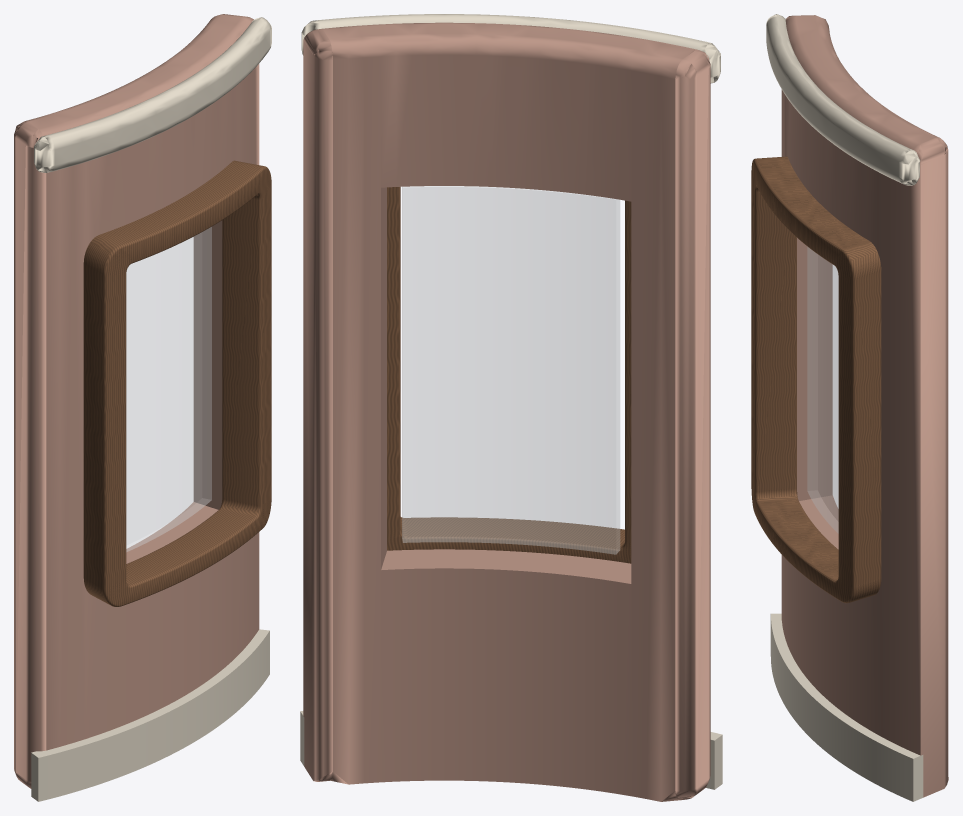
The model's file is ArcWindow_R2_A45.glb.
The picture shows the model from 3 angles, left to right: view 1: azimuth 30°, elevation 25°; view 2: azimuth 150°, elevation 25°; view 3: azimuth 270°, elevation 25°; orthographic projection. The views are drawn at different scales.
Parts seen in each view (by area): view 1: PBK_substrate.001, PBK_Continuous_Frame_Brick_Window.003, PBK_Arc_PBK_glass.002, PBK_Arc_PBK_base_trim.007, PBK_floor_band.001; view 2: PBK_substrate.001, PBK_Arc_PBK_glass.002, PBK_Continuous_Frame_Brick_Window.003, PBK_floor_band.001, PBK_Arc_PBK_base_trim.007; view 3: PBK_substrate.001, PBK_Continuous_Frame_Brick_Window.003, PBK_Arc_PBK_base_trim.007, PBK_Arc_PBK_glass.002, PBK_floor_band.001.
Part boxes in pixels (<box>): PBK_substrate.001: <box>14,14,259,788</box>; PBK_Continuous_Frame_Brick_Window.003: <box>83,160,271,606</box>; PBK_Arc_PBK_glass.002: <box>126,227,211,551</box>; PBK_Arc_PBK_base_trim.007: <box>31,629,269,801</box>; PBK_floor_band.001: <box>34,17,271,172</box>; PBK_substrate.001: <box>303,22,710,801</box>; PBK_Arc_PBK_glass.002: <box>402,186,619,554</box>; PBK_Continuous_Frame_Brick_Window.003: <box>387,187,631,563</box>; PBK_floor_band.001: <box>301,14,720,83</box>; PBK_Arc_PBK_base_trim.007: <box>300,711,722,789</box>; PBK_substrate.001: <box>781,15,948,797</box>; PBK_Continuous_Frame_Brick_Window.003: <box>751,156,881,603</box>; PBK_Arc_PBK_base_trim.007: <box>770,613,923,801</box>; PBK_Arc_PBK_glass.002: <box>807,247,838,533</box>; PBK_floor_band.001: <box>766,14,920,185</box>.
Bounding box in the file's own units: 1.45 × 3 × 0.8296.
Materials: 4 (1 with a texture image).
